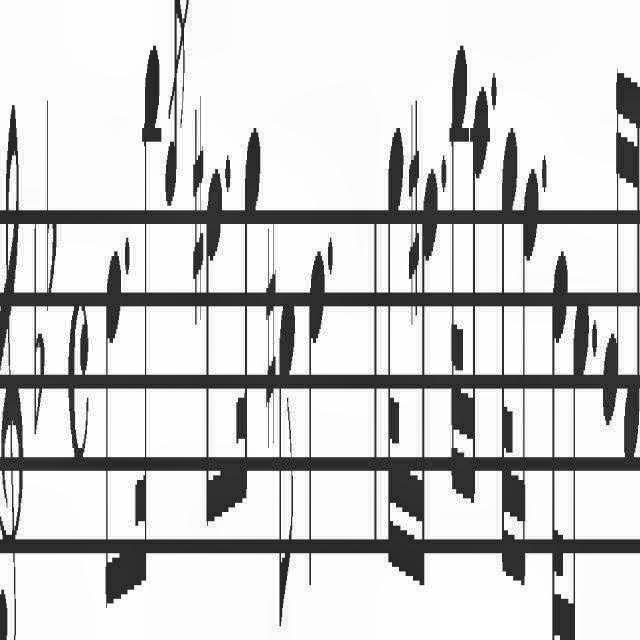Bass-clef: (0, 27, 24, 640)
Bemol: (28, 185, 46, 451), (39, 74, 59, 300)
Diez: (263, 176, 279, 448), (191, 65, 205, 325), (408, 77, 420, 319)
Eighth-note: (101, 225, 123, 628), (278, 262, 298, 630), (206, 158, 224, 526)
Quarter-note: (304, 222, 324, 594)
Sixteenth-note: (134, 29, 162, 604), (234, 110, 262, 493), (416, 138, 439, 604), (520, 154, 540, 612), (470, 80, 490, 516), (602, 31, 622, 428), (624, 46, 640, 462), (571, 279, 589, 640)
